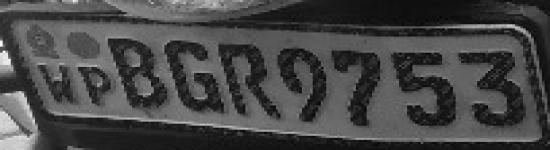3: (456, 43, 530, 130)
5: (387, 46, 460, 131)
7: (328, 42, 387, 132)
9: (274, 42, 330, 126)
B: (107, 34, 170, 111)
G: (167, 33, 227, 115)
P: (79, 64, 115, 107)
R: (223, 35, 283, 123)
W: (34, 60, 80, 107)
